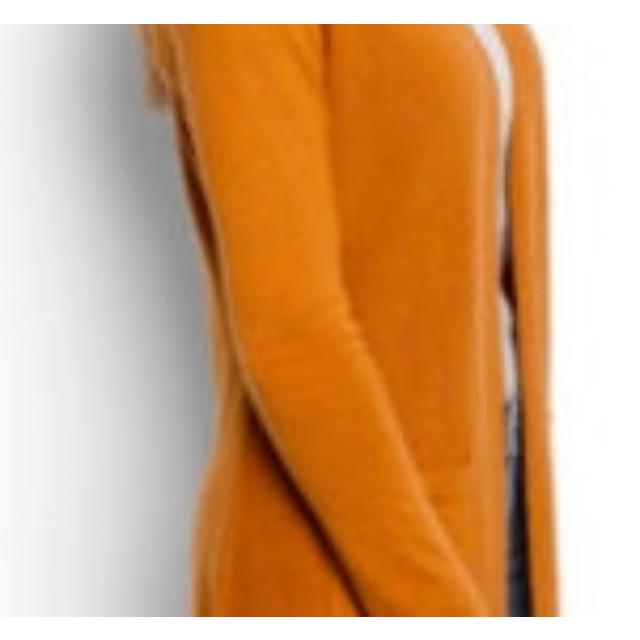wool: (161, 24, 559, 616)
